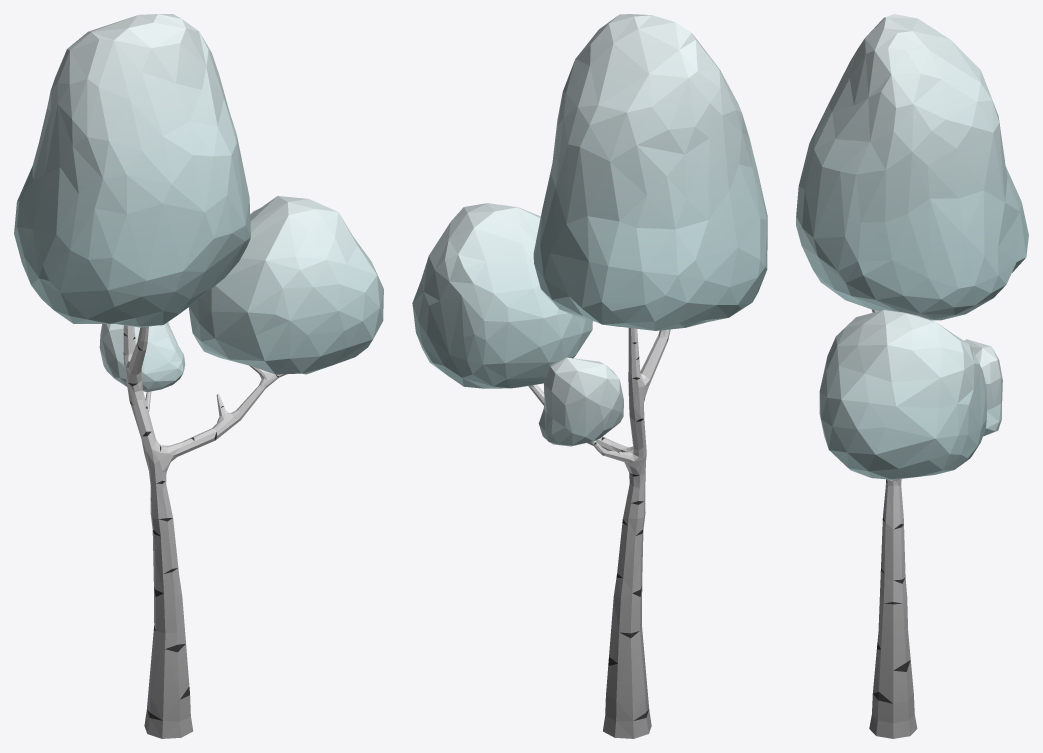
Rendered from Winter_Tree_15.glb.
3 views of the same model, side by side, from view 1: azimuth 30°, elevation 25°; view 2: azimuth 150°, elevation 25°; view 3: azimuth 270°, elevation 25° (orthographic). The views are drawn at different scales.
Parts seen in each view (by area): view 1: Winter_Tree_15_LOD0; view 2: Winter_Tree_15_LOD0; view 3: Winter_Tree_15_LOD0.
Boxes of the visible parts, x1,y1,x2,y2 form: Winter_Tree_15_LOD0: (14,14,383,738); Winter_Tree_15_LOD0: (412,14,767,738); Winter_Tree_15_LOD0: (796,14,1028,738).
Size of what is drawn, in the model's own units: 3.9 by 7.98 by 2.44.
Materials: 1 (1 with a texture image).
